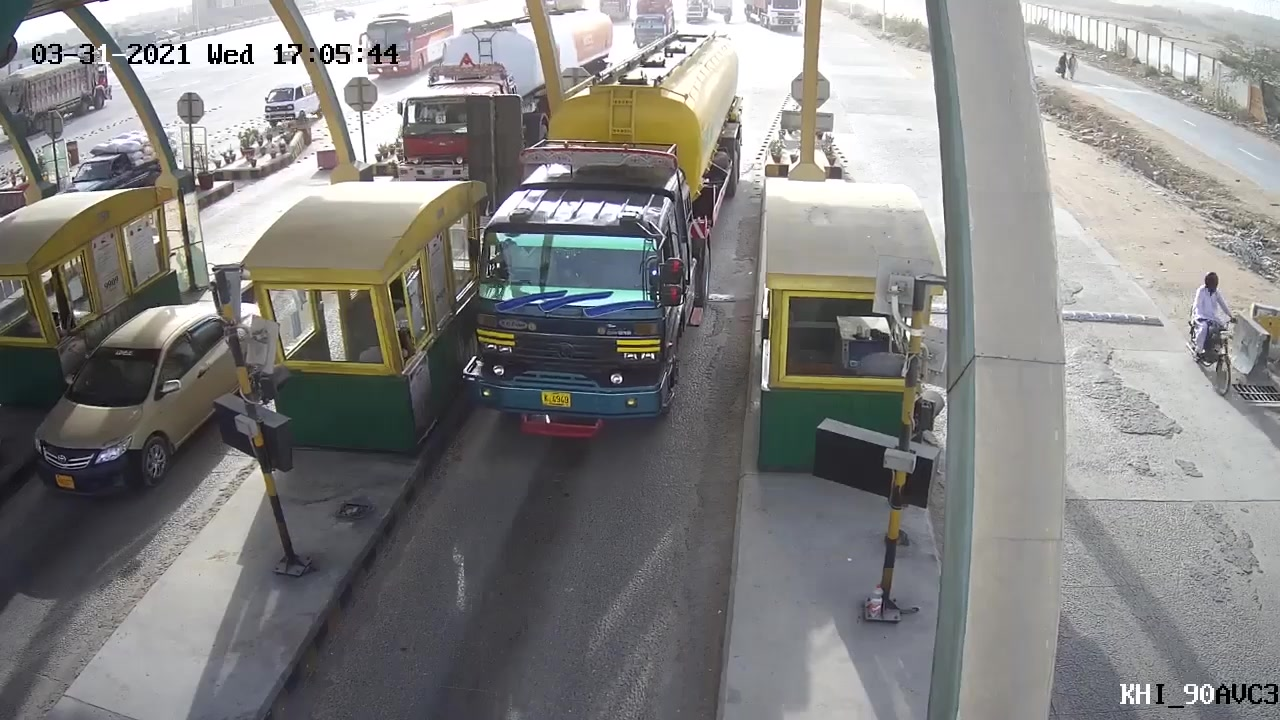F5: (443, 3, 744, 453)
